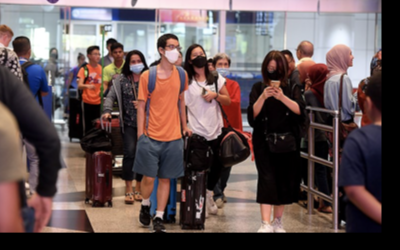with_mask: (163, 42, 181, 64), (190, 50, 206, 69), (266, 64, 283, 81), (129, 57, 145, 74), (215, 61, 230, 77), (49, 49, 57, 59)
without_mask: (112, 48, 124, 61), (90, 50, 100, 63), (348, 48, 354, 67), (174, 52, 181, 65), (207, 62, 215, 73)
